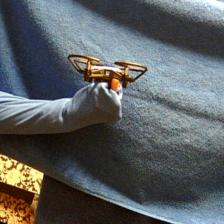drone: (66, 50, 150, 88)
